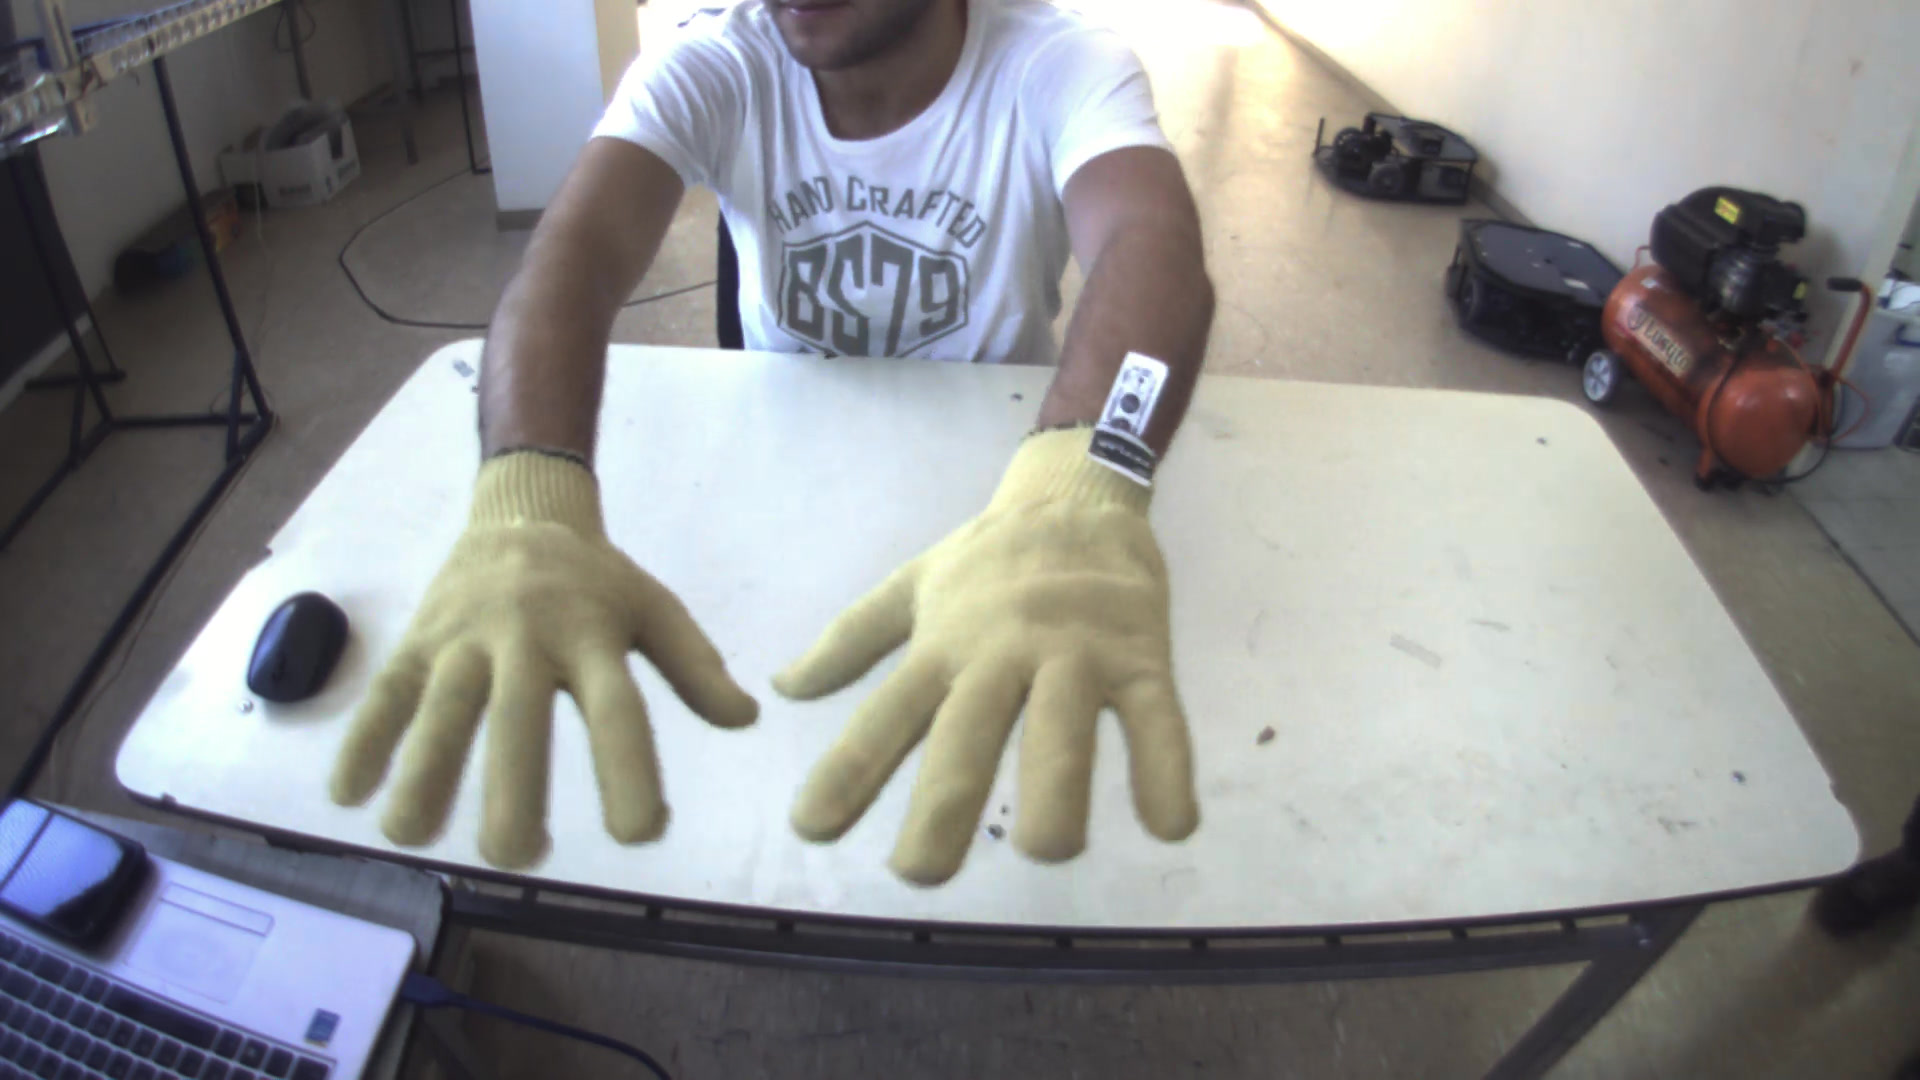hand: (744, 414, 1218, 895), (302, 440, 742, 878)
